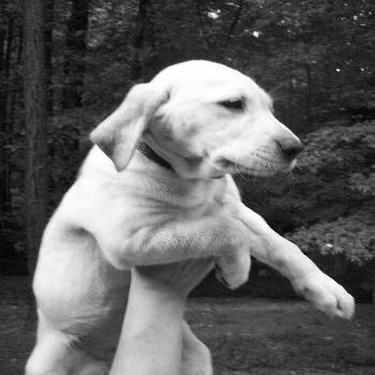dog: (20, 55, 362, 374)
